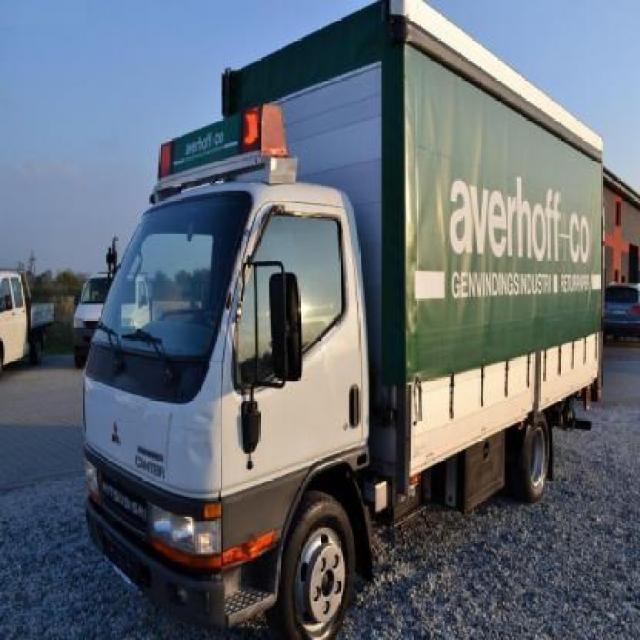truck: (83, 2, 606, 640)
